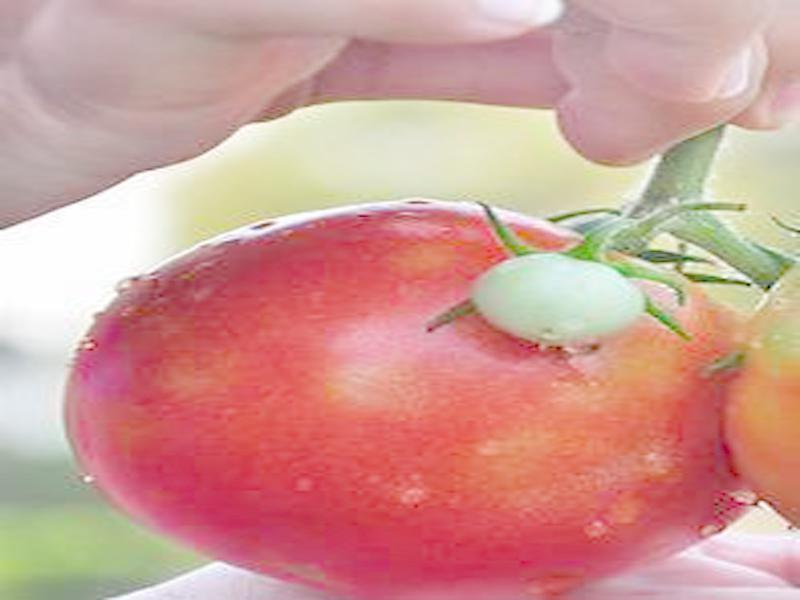Tomato: (65, 199, 751, 600)
